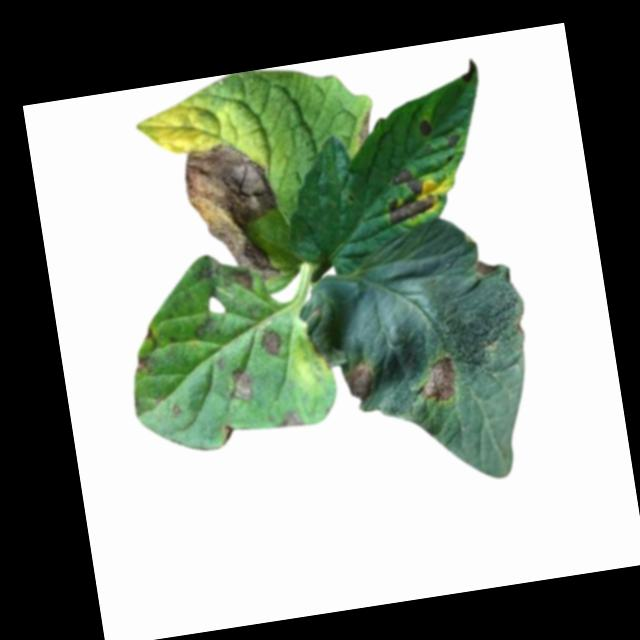Early_blight: (179, 139, 289, 288), (382, 164, 434, 225), (415, 352, 462, 407), (342, 358, 381, 403), (225, 367, 260, 405), (353, 108, 375, 149), (469, 257, 502, 282), (261, 329, 283, 357), (278, 410, 306, 432), (458, 57, 479, 85), (228, 270, 253, 293), (133, 354, 154, 375), (418, 119, 435, 139), (221, 424, 237, 443), (445, 135, 462, 149)
